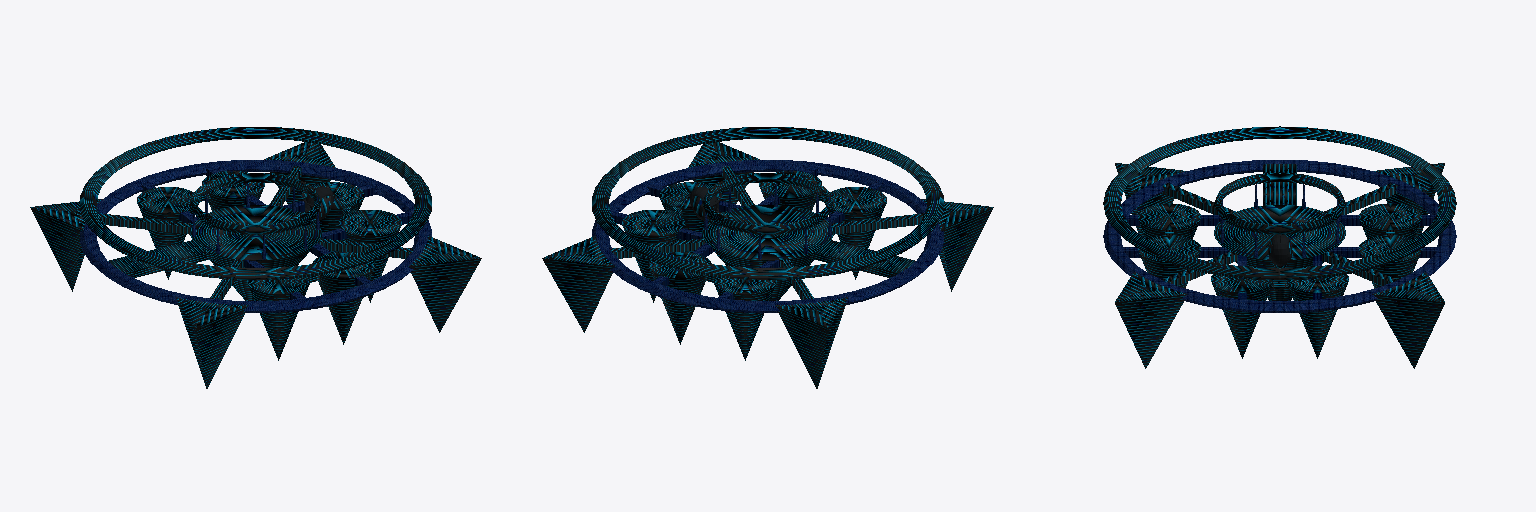
3 views of the same model, side by side, from view 1: azimuth 30°, elevation 25°; view 2: azimuth 150°, elevation 25°; view 3: azimuth 270°, elevation 25° (orthographic).
Parts seen in each view (by area): view 1: Torus1, Torus, Cone5, Cone3, Cone4, Cone1, Torus3, Cone8, Cone7, Cone18, Cone9, Box4 (+5 smaller); view 2: Torus1, Torus, Cone5, Cone2, Cone1, Cone4, Torus3, Cone7, Cone8, Cone19, Cone6, Box4 (+5 smaller); view 3: Torus1, Torus, Cone5, Cone2, Cone3, Torus3, Cone19, Cone18, Cone7, Cone8, Cone6, Cone9 (+8 smaller).
Boxes of the visible parts, x1,y1,x2,y2 form: Torus1: [80, 127, 431, 279]; Torus: [80, 160, 431, 312]; Cone5: [190, 205, 321, 300]; Cone3: [408, 236, 481, 332]; Cone4: [176, 297, 248, 388]; Cone1: [30, 199, 102, 291]; Torus3: [191, 173, 320, 233]; Cone8: [247, 277, 309, 360]; Cone7: [137, 187, 199, 279]; Cone18: [339, 210, 401, 302]; Cone9: [312, 252, 374, 344]; Box4: [108, 240, 213, 277]; Torus1: [592, 127, 943, 279]; Torus: [592, 160, 943, 312]; Cone5: [702, 205, 833, 300]; Cone2: [542, 236, 615, 332]; Cone1: [775, 297, 847, 388]; Cone4: [921, 199, 993, 291]; Torus3: [703, 173, 832, 233]; Cone7: [714, 277, 776, 360]; Cone8: [824, 187, 886, 279]; Cone19: [622, 210, 684, 302]; Cone6: [649, 252, 711, 344]; Box4: [810, 240, 915, 277]; Torus1: [1103, 126, 1456, 279]; Torus: [1103, 160, 1456, 312]; Cone5: [1214, 205, 1345, 300]; Cone2: [1372, 271, 1444, 368]; Cone3: [1115, 271, 1187, 368]; Torus3: [1215, 172, 1344, 233]; Cone19: [1286, 266, 1348, 358]; Cone18: [1211, 266, 1273, 358]; Cone7: [1359, 203, 1421, 238]; Cone8: [1138, 203, 1200, 238]; Cone6: [1359, 235, 1421, 288]; Cone9: [1138, 235, 1200, 288].
Bounding box in the file's own units: 40 × 14.17 × 40.
2 materials, 2 textured.